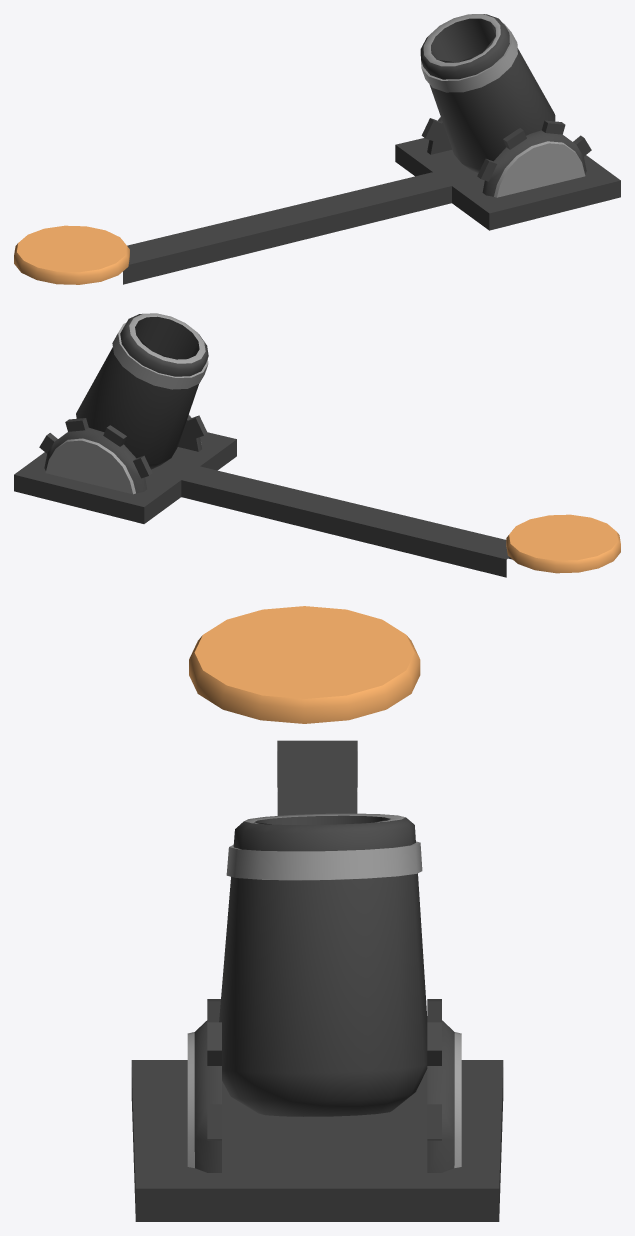
Rendered from diff_3.1.fbx.
The picture shows the model from 3 angles, top to bottom: view 1: azimuth 30°, elevation 25°; view 2: azimuth 150°, elevation 25°; view 3: azimuth 270°, elevation 25°; orthographic projection. The views are drawn at different scales.
Visible parts, largest first — view 1: Cube.009; view 2: Cube.009; view 3: Cube.009.
Part boxes in pixels (<box>): Cube.009: <box>14,14,620,284</box>; Cube.009: <box>14,313,620,577</box>; Cube.009: <box>131,606,503,1221</box>.
Bounding box in the file's own units: 1292 × 362 × 378.
